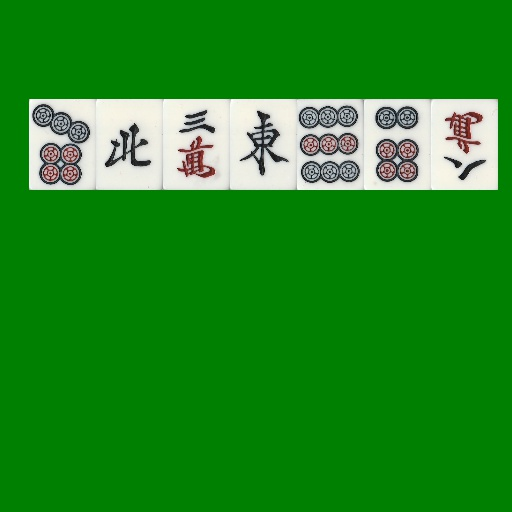3m: (163, 99, 230, 190)
6p: (364, 99, 431, 190)
7p: (29, 99, 96, 190)
8m: (431, 99, 498, 190)
9p: (297, 99, 364, 190)
east: (230, 99, 297, 190)
north: (96, 99, 163, 190)
